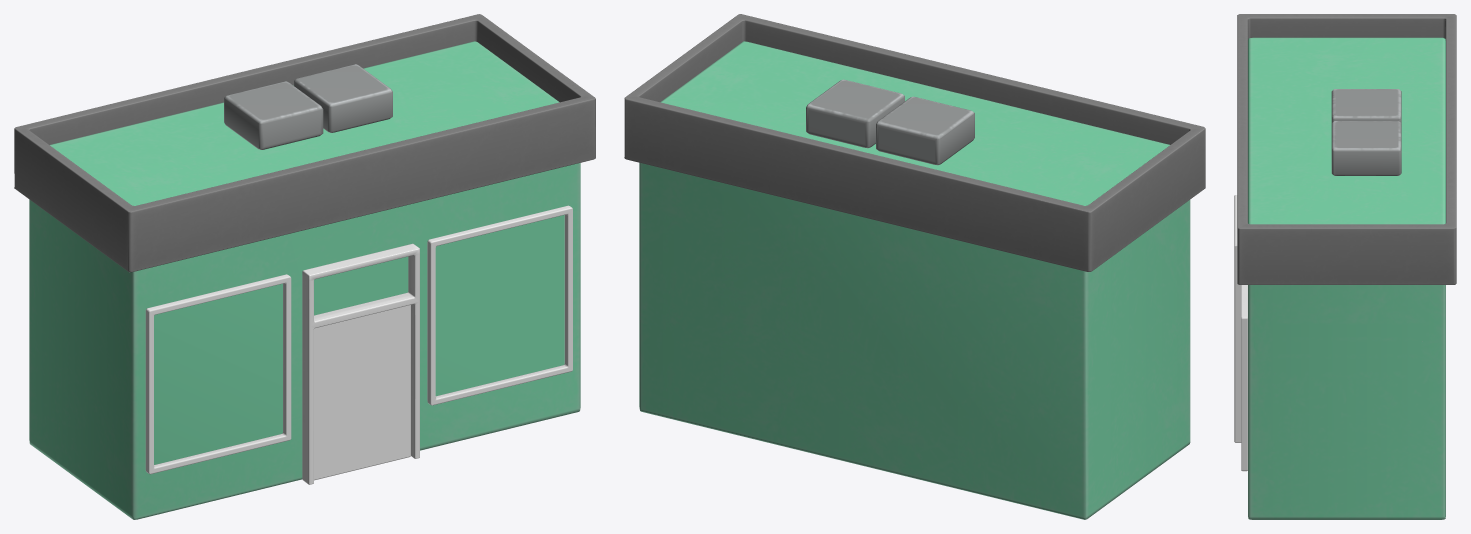
The model's file is building_set_004_lp.fbx.
3 views of the same model, side by side, from view 1: azimuth 30°, elevation 25°; view 2: azimuth 150°, elevation 25°; view 3: azimuth 270°, elevation 25° (orthographic). The views are drawn at different scales.
Visible parts, largest first — view 1: building_set_004; view 2: building_set_004; view 3: building_set_004.
Part boxes in pixels (x1,y1,x2,y2): building_set_004: (14,14,595,519); building_set_004: (624,14,1205,519); building_set_004: (1234,14,1456,519).
Size of the model in its own units: 703 by 466 by 307.
Materials: 1 (1 with a texture image).
